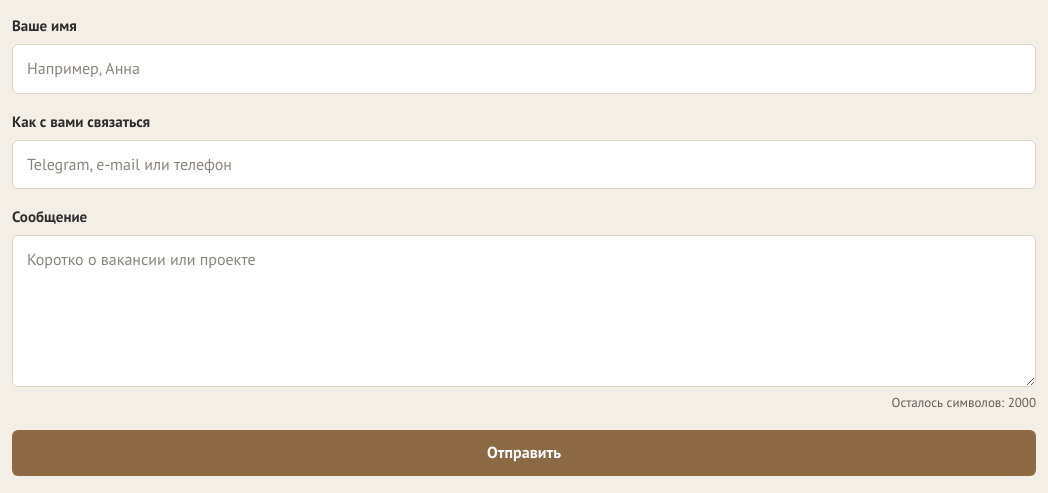
Test: ContactForm › отправляет обрезанные значения и показывает благодарность
Type "  Анна " into the field labelled "Ваше имя".
click(524, 69); type("  Анна ")  # box [12,44,1036,94]
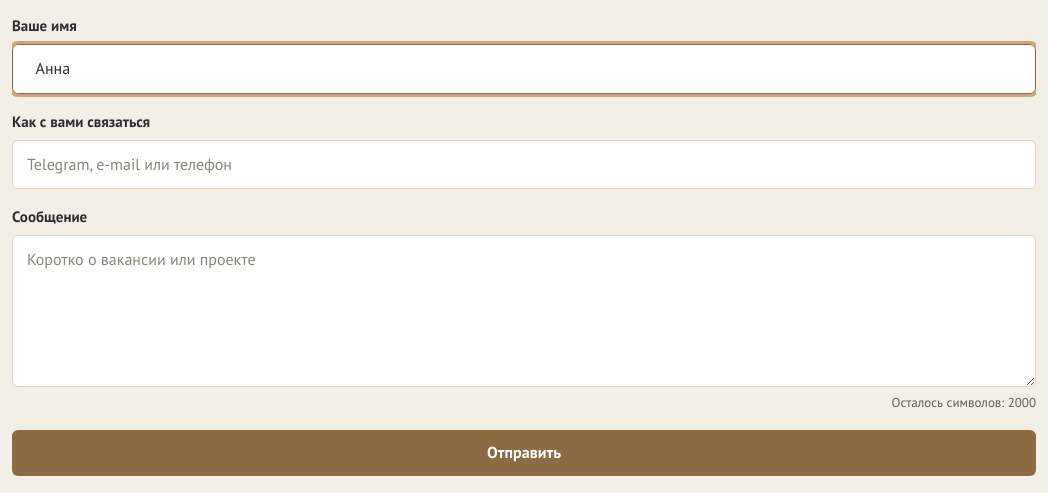
Type "@anna_hr" into the field labelled "Как с вами связаться".
click(524, 164); type("@anna_hr")  # box [12,140,1036,189]
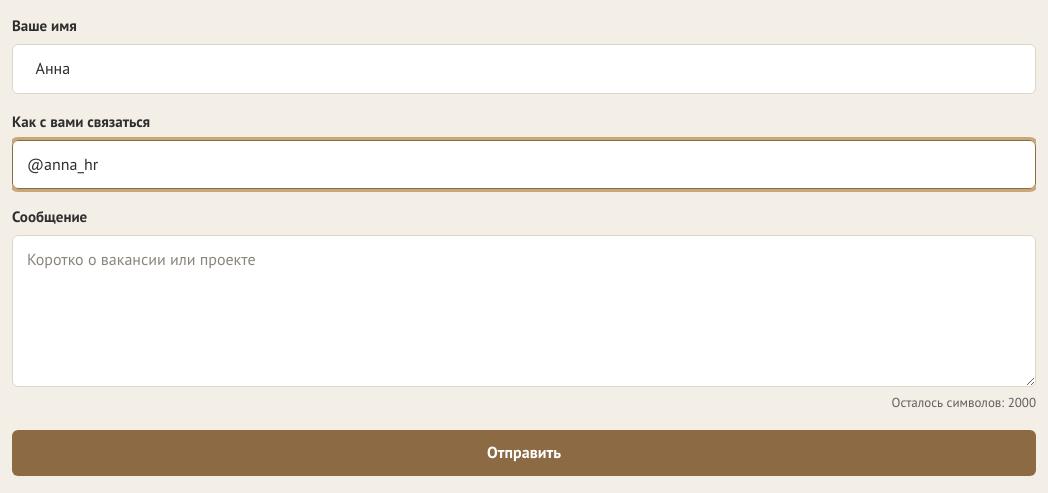
Type "Есть вакансия тимлида" into the text box labelled "Сообщение".
click(524, 311); type("Есть вакансия тимлида")  # box [12,235,1036,387]
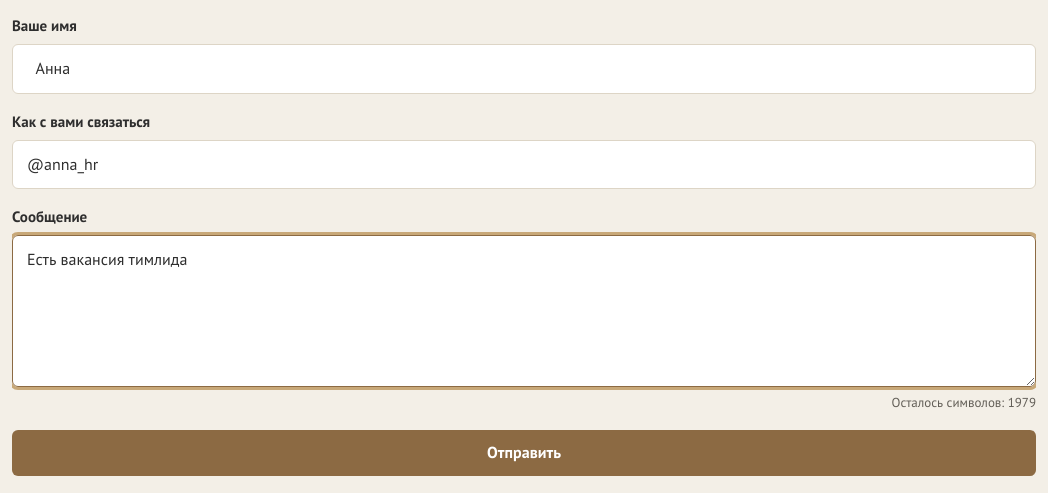
Click the button "Отправить".
click(524, 453)  # box [12,430,1036,476]
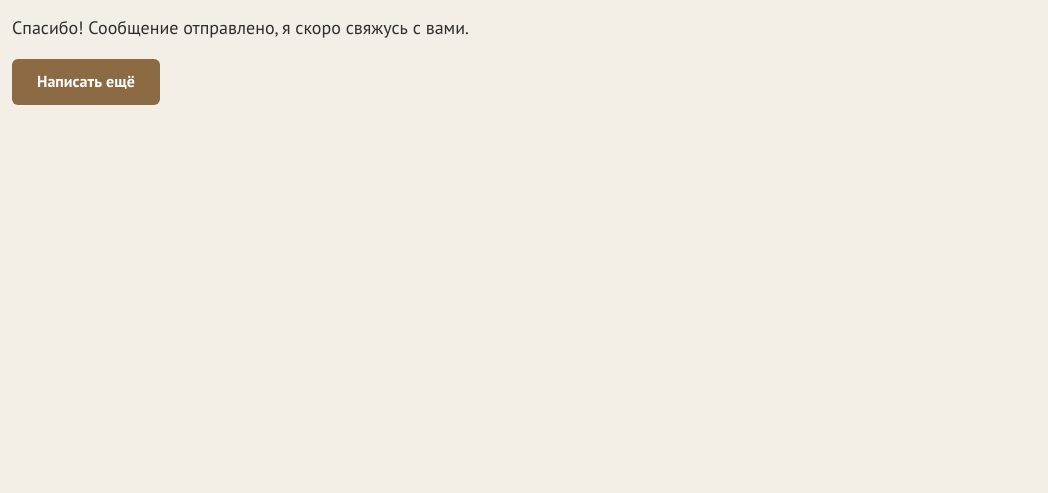
Expected: the message shows "Спасибо!", [12,16,469,39]
